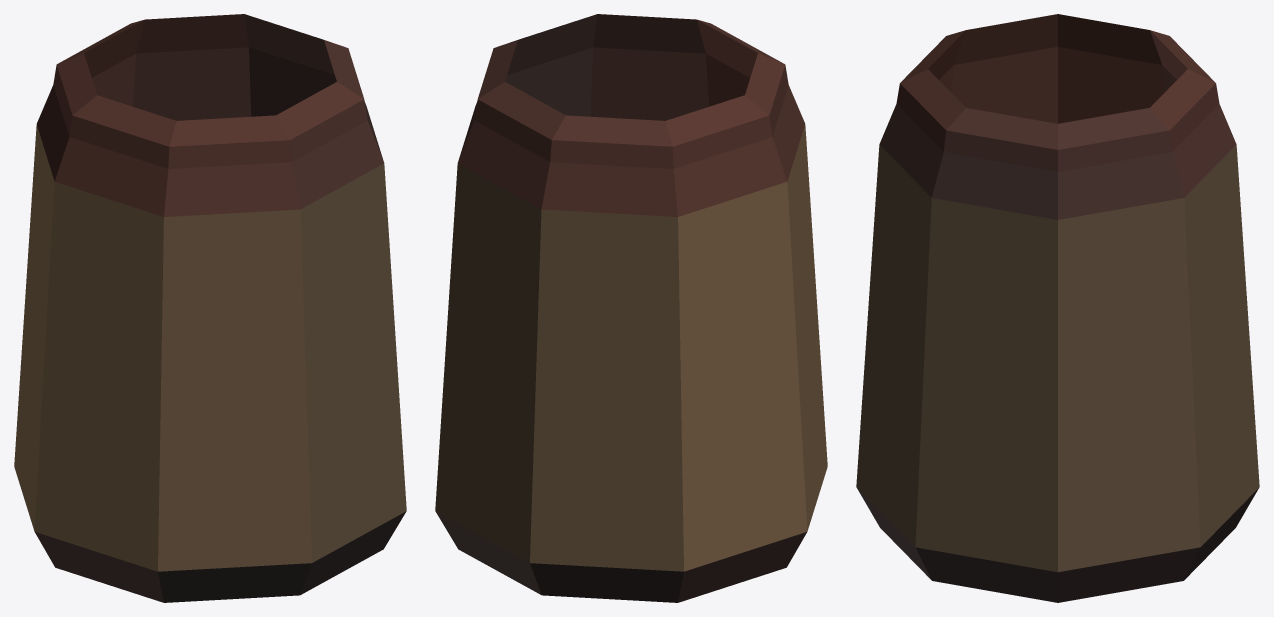
Rendered from Decor_PotB.fbx.
The picture shows the model from 3 angles, left to right: view 1: azimuth 30°, elevation 25°; view 2: azimuth 150°, elevation 25°; view 3: azimuth 270°, elevation 25°; orthographic projection.
Visible parts, largest first — view 1: Decor_PotB; view 2: Decor_PotB; view 3: Decor_PotB.
Boxes of the visible parts, x1,y1,x2,y2 form: Decor_PotB: (14, 14, 406, 602); Decor_PotB: (435, 14, 827, 602); Decor_PotB: (856, 14, 1259, 602).
Bounding box in the file's own units: 53.06 × 66.6 × 53.06.
